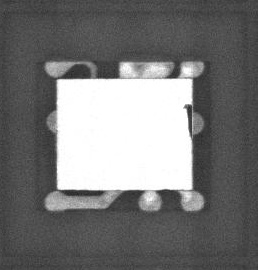DIE_BROKEN: (182, 101, 193, 140)
